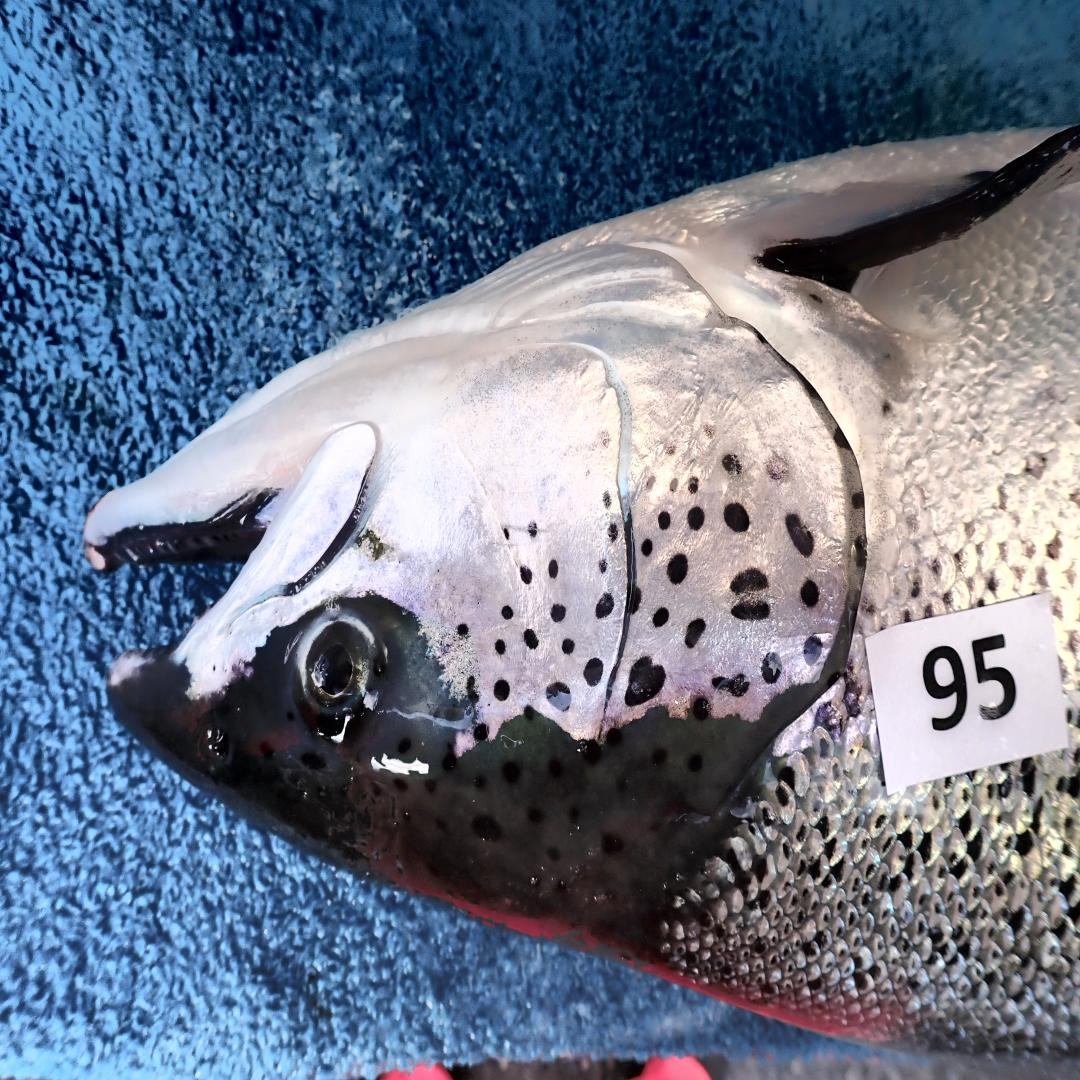spot: (624, 655, 664, 706), (785, 515, 814, 557), (730, 568, 768, 593), (713, 672, 749, 698), (546, 681, 572, 712), (730, 602, 769, 621), (724, 503, 749, 532), (761, 652, 783, 683), (667, 554, 688, 585), (686, 619, 707, 647), (767, 454, 788, 481), (799, 579, 818, 608), (804, 636, 823, 664), (584, 658, 603, 686), (595, 593, 614, 619), (833, 426, 851, 452), (853, 536, 867, 567), (692, 698, 711, 720), (721, 453, 742, 472), (688, 506, 705, 529), (467, 675, 480, 705), (494, 680, 510, 701), (652, 608, 669, 627), (523, 629, 538, 650), (473, 723, 489, 742), (631, 588, 642, 613), (519, 565, 532, 585), (550, 605, 565, 622), (851, 491, 864, 509), (641, 540, 654, 557), (658, 512, 671, 529), (561, 638, 574, 655), (523, 706, 537, 721), (548, 560, 559, 579), (608, 523, 618, 543), (688, 477, 699, 495), (599, 430, 610, 448), (527, 520, 538, 537), (704, 424, 716, 439), (496, 638, 506, 655), (646, 474, 656, 491), (502, 605, 513, 619), (603, 492, 612, 509), (669, 478, 679, 493), (458, 624, 469, 637), (599, 560, 608, 574), (666, 444, 676, 456), (503, 528, 510, 540)
